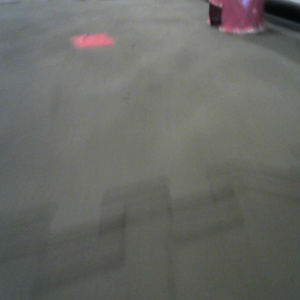Right: (207, 1, 267, 34)
